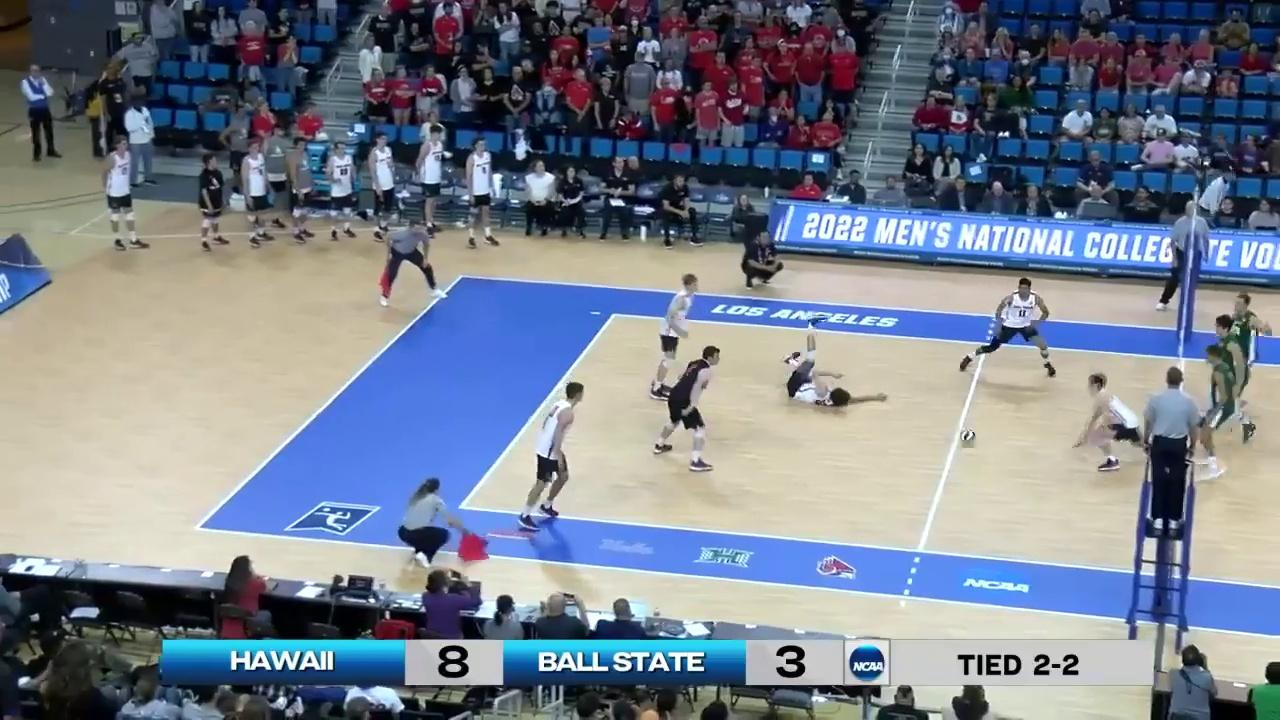player: (778, 316, 893, 413), (518, 377, 585, 531), (957, 278, 1055, 383), (653, 344, 722, 471), (1074, 374, 1153, 472), (651, 270, 709, 400), (1203, 313, 1250, 463), (1224, 296, 1269, 443), (1199, 346, 1236, 482)
refree: (1146, 369, 1200, 536), (399, 477, 481, 571), (377, 218, 441, 308), (1160, 201, 1209, 314)
